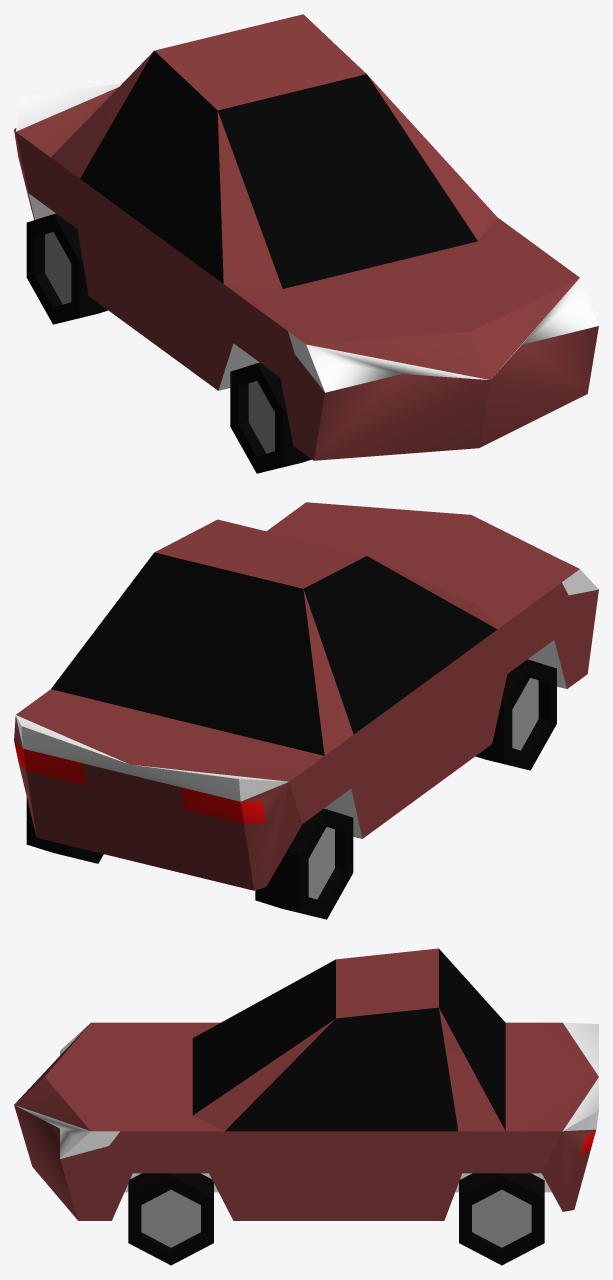
The model's file is PropCarARed.fbx.
The picture shows the model from 3 angles, top to bottom: view 1: azimuth 30°, elevation 25°; view 2: azimuth 150°, elevation 25°; view 3: azimuth 270°, elevation 25°; orthographic projection. The views are drawn at different scales.
Parts seen in each view (by area): view 1: PropCarARed, PropCarARearWheels, PropCarARightWheel; view 2: PropCarARed, PropCarARearWheels, PropCarARightWheel; view 3: PropCarARed, PropCarARearWheels, PropCarALeftWheel.
Boxes of the visible parts, bbox=[...] form: PropCarARed: bbox=[14, 14, 598, 460]; PropCarARearWheels: bbox=[26, 213, 107, 324]; PropCarARightWheel: bbox=[230, 362, 311, 473]; PropCarARed: bbox=[14, 502, 598, 890]; PropCarARearWheels: bbox=[26, 797, 353, 919]; PropCarARightWheel: bbox=[475, 659, 556, 770]; PropCarARed: bbox=[14, 948, 598, 1220]; PropCarARearWheels: bbox=[459, 1173, 544, 1265]; PropCarALeftWheel: bbox=[128, 1173, 213, 1265].
Size of the model in its own units: 94.27 by 94.5 by 215.
1 material, 1 textured.
